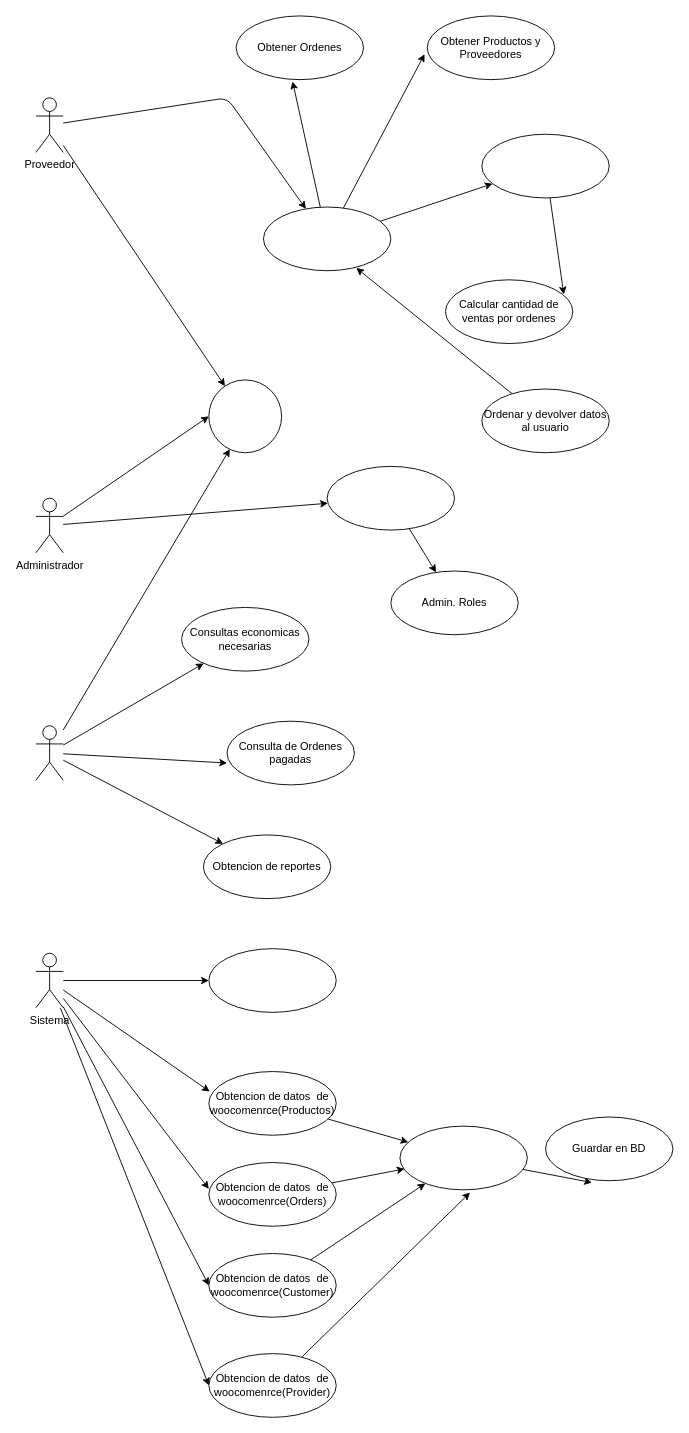
This 689x1433 diagram has some shape labels left out. Each missing label, with the centre of its shape:
"Administrar Usuarios" belongs at (390,497).
"Autenticarse en Woocomence" belongs at (272,980).
"Economico(a)" belongs at (49,752).
"Login Register" belongs at (245,416).
"Obtener cantidad de Ordenes por fechas" belongs at (545,165).
"Obtener Ventas" belongs at (327,238).
"Procesar Datos(Casteos de datos en caso de ser necesario)" belongs at (463,1157).
